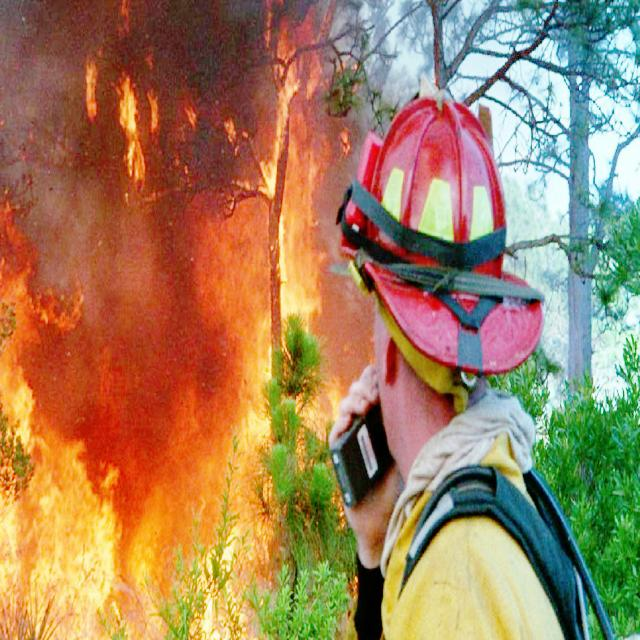api: (1, 186, 161, 638), (248, 1, 351, 434), (188, 513, 250, 640), (117, 62, 164, 208), (81, 54, 108, 120)
asap: (7, 1, 213, 588)
